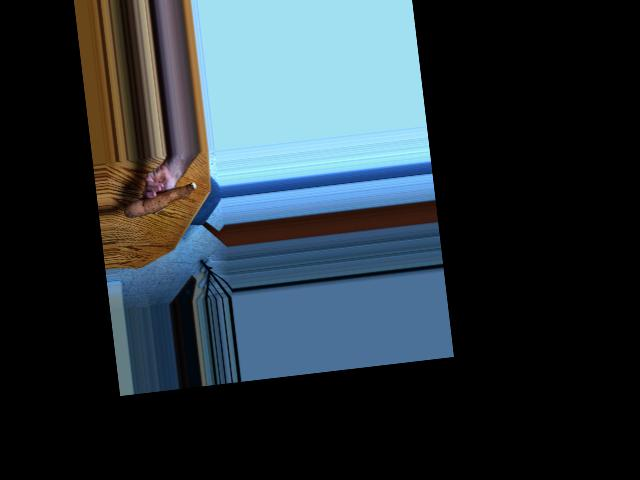sweet_potato: (125, 181, 197, 222)
